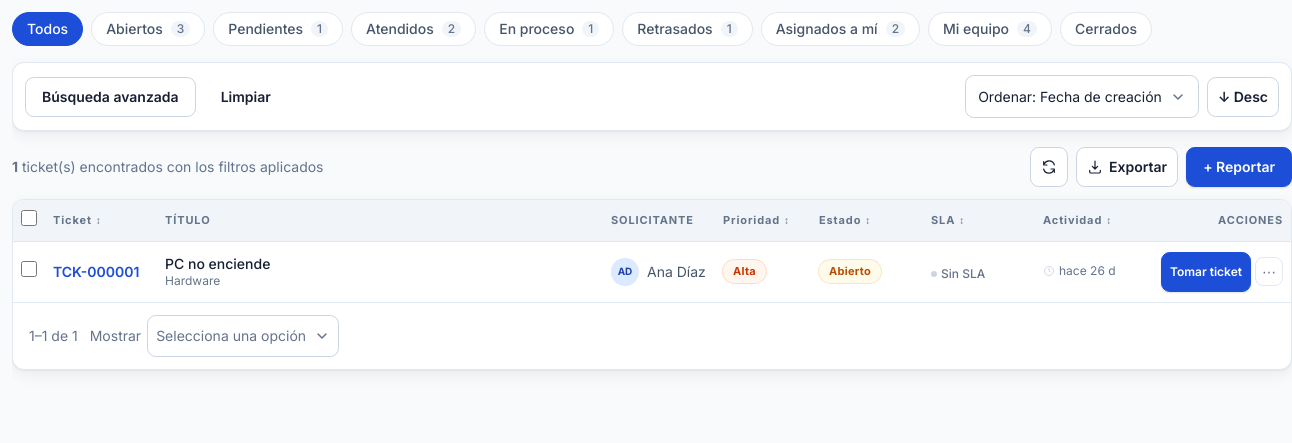
Test: Tickets › cambia el orden y lo refleja en la consulta
Expected: the link "TCK-000001" is shown, [53,262,139,281]
Click the dropdown labelled "Ordenar: Fecha de creación": (1082, 96) [965,75,1199,118]
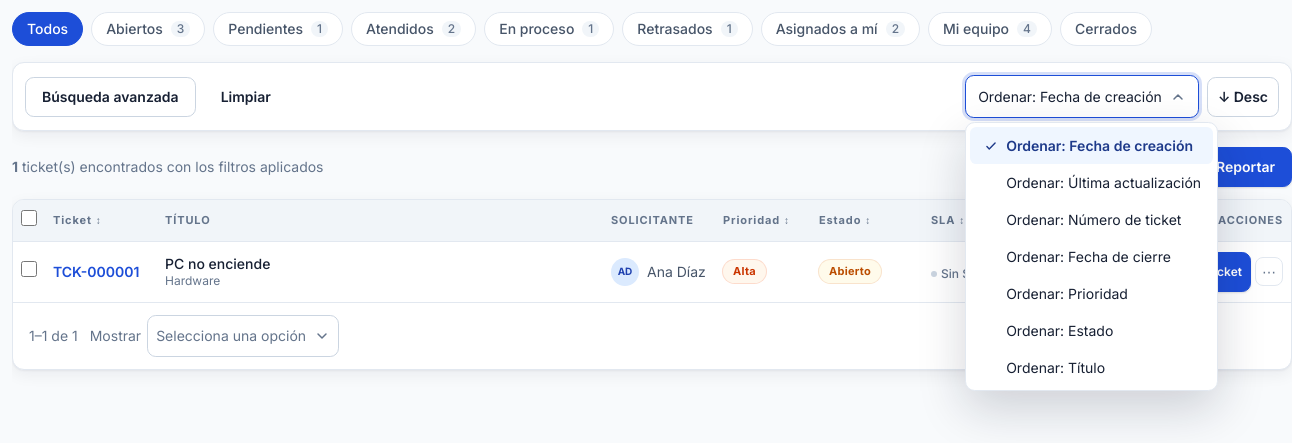
Click the option "Ordenar: Prioridad": (1067, 294) [1006,285,1128,302]
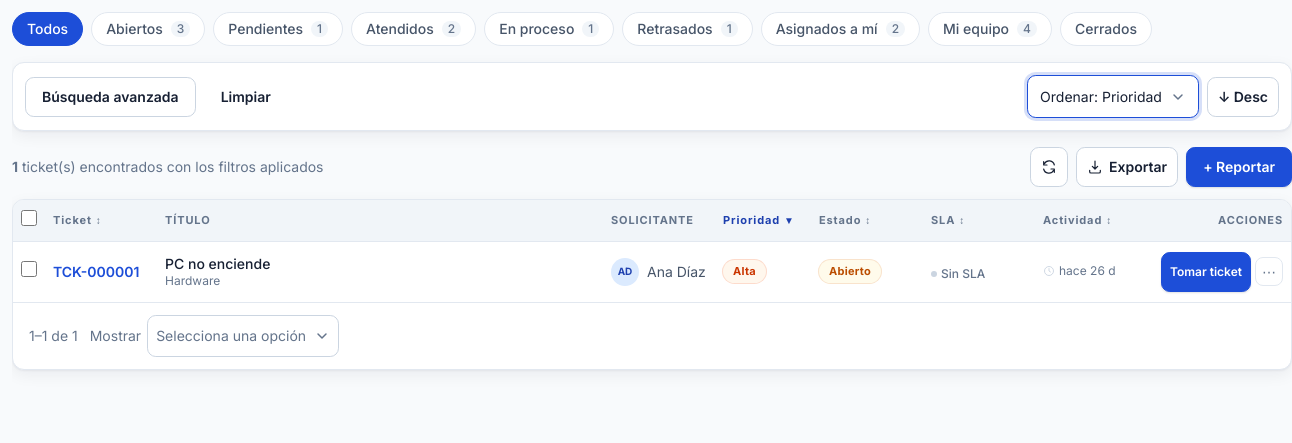
Now the list is gone
Now the dropdown labelled "Ordenar: Prioridad" is shown, box [1027,75,1199,118]
